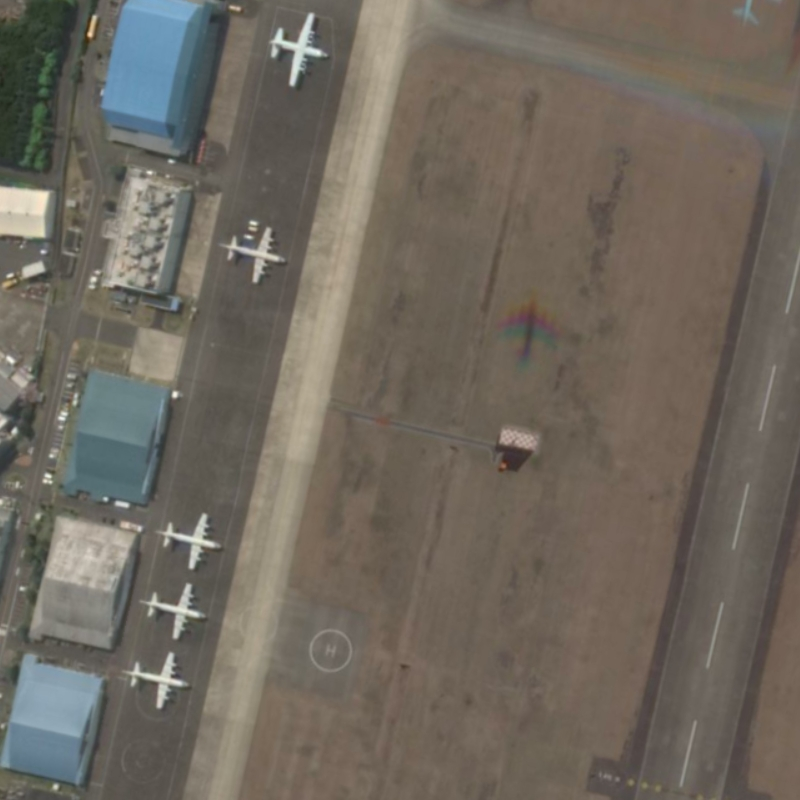A2: (265, 3, 338, 94)
A9: (215, 216, 293, 289), (115, 644, 194, 713), (151, 506, 228, 573), (132, 577, 210, 643)
